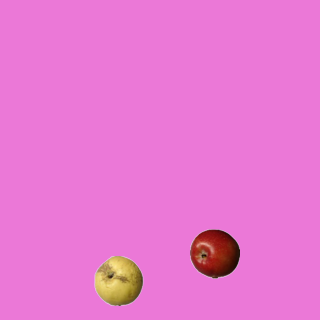Apple Braeburn: (189, 228, 239, 278)
Apple Golden 1: (93, 255, 143, 305)
